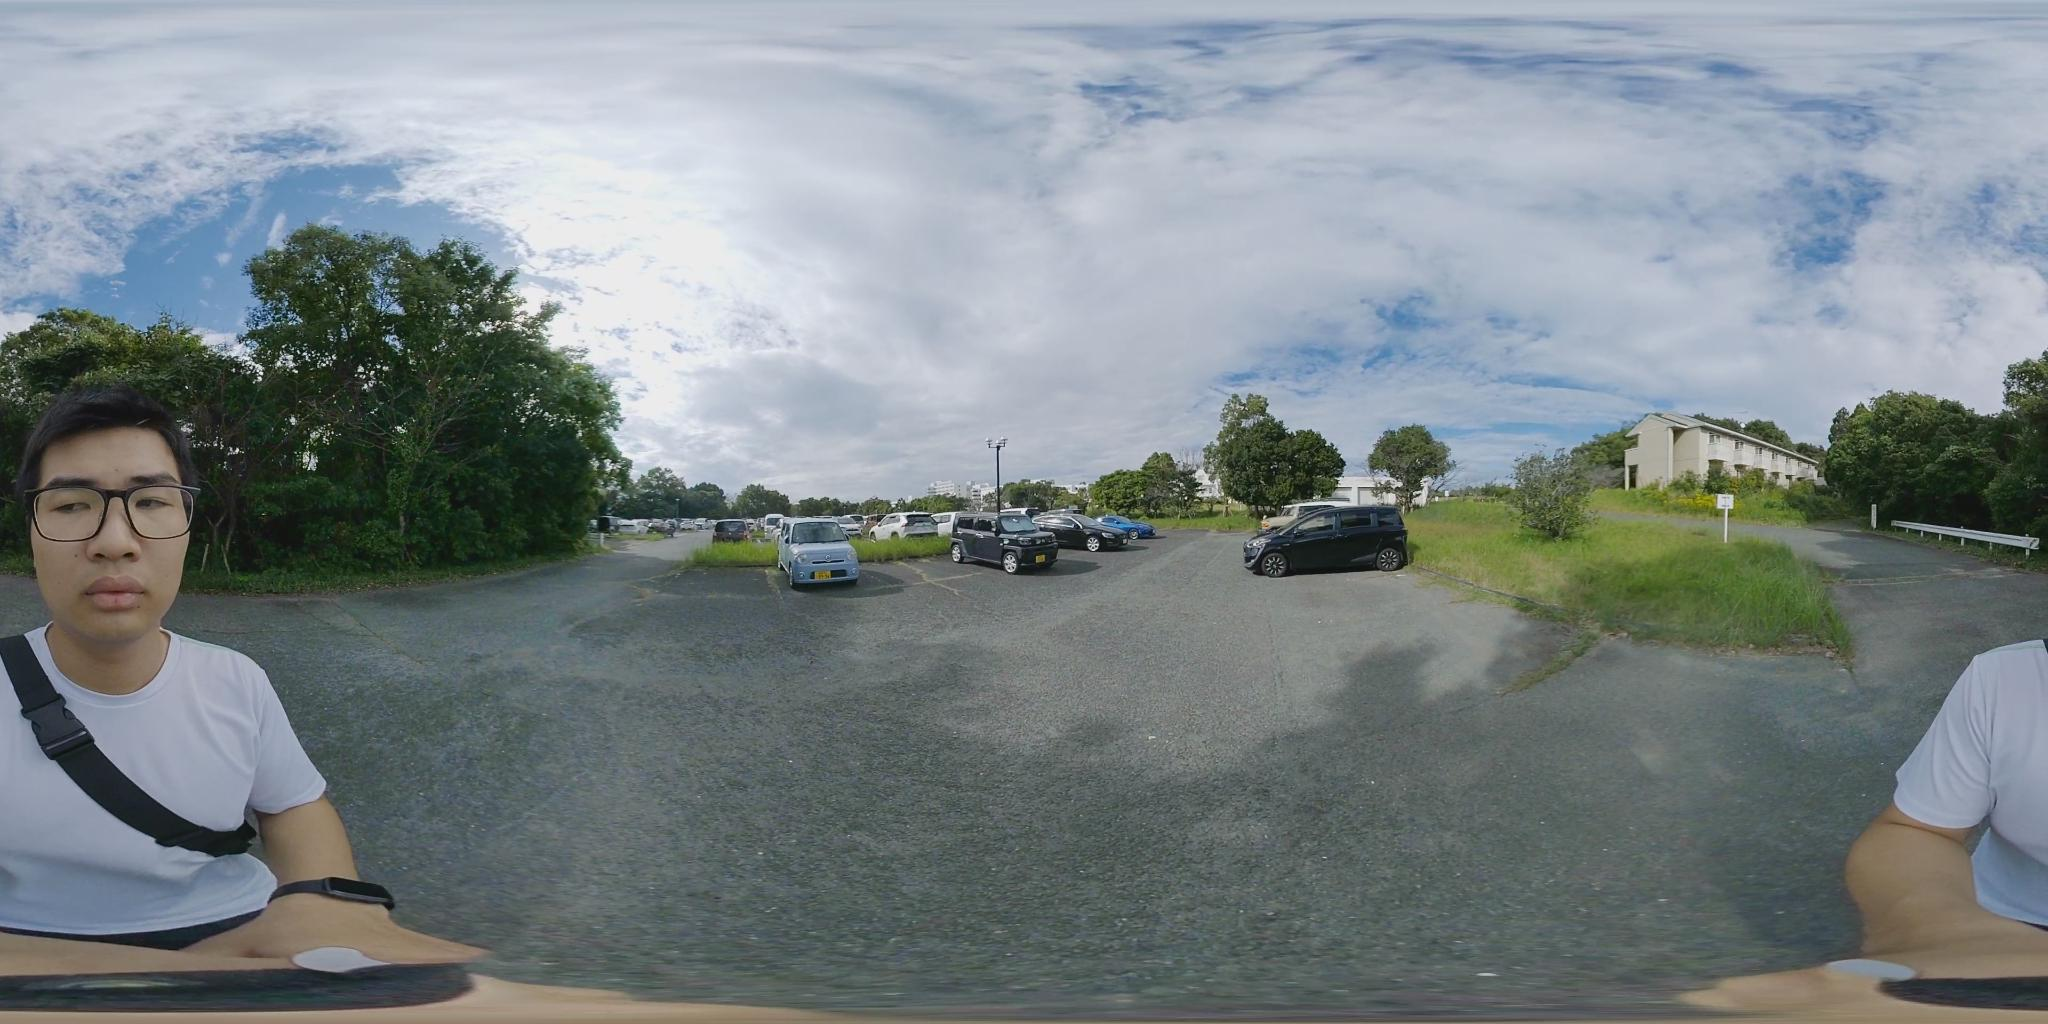car: (1246, 502, 1412, 575), (952, 515, 1051, 573), (775, 519, 857, 586), (1034, 515, 1127, 549), (1095, 516, 1153, 538), (886, 516, 943, 538), (716, 522, 760, 542)
